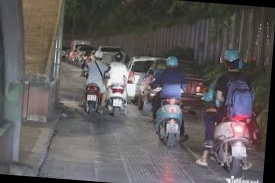Bien-so: (230, 146, 248, 158), (166, 123, 182, 134), (113, 100, 123, 107), (87, 94, 96, 101)
